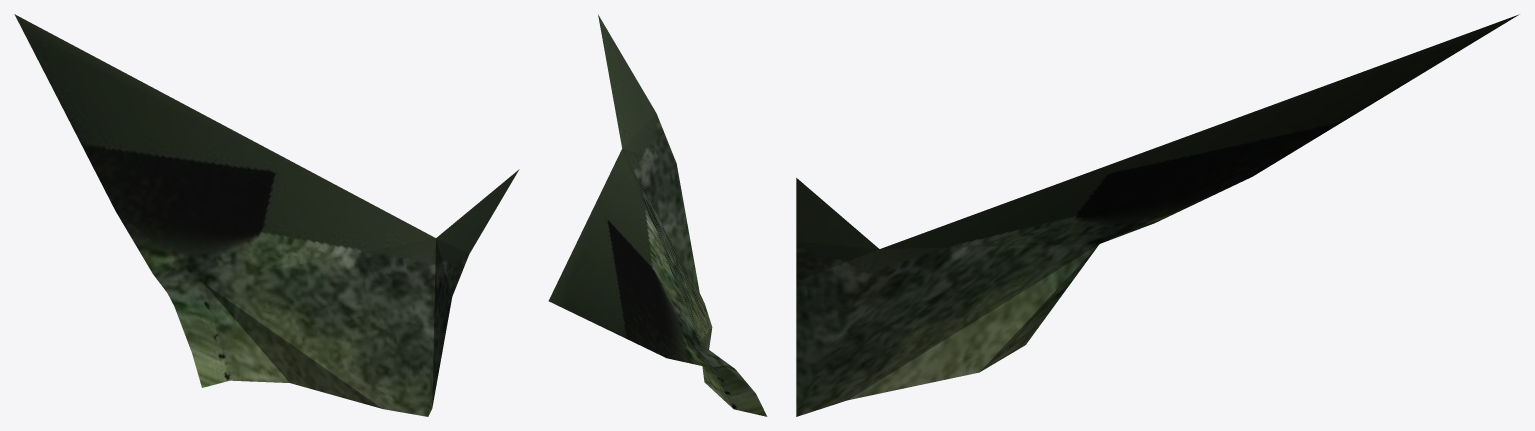
3 renders of one model, left to right at view 1: azimuth 30°, elevation 25°; view 2: azimuth 150°, elevation 25°; view 3: azimuth 270°, elevation 25°, orthographic. The views are drawn at different scales.
Bounding box in the file's own units: 2.82 × 2.76 × 5.78.
1 material, 1 textured.
